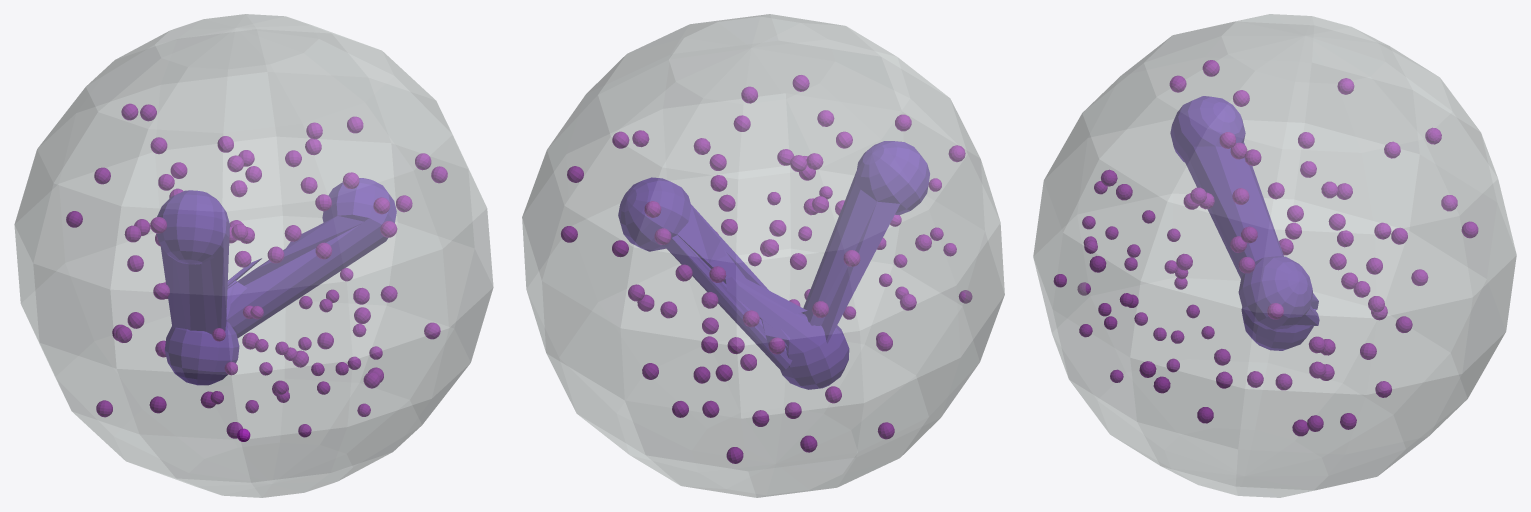
The model's file is model-triangulated.obj.
The picture shows the model from 3 angles, left to right: view 1: azimuth 30°, elevation 25°; view 2: azimuth 150°, elevation 25°; view 3: azimuth 270°, elevation 25°; orthographic projection.
Visible parts, largest first — view 1: group1653038168, group1235840104, group489973218, group1056573630; view 2: group1653038168, group489973218, group1235840104, group1056573630; view 3: group1653038168, group489973218, group1235840104, group1056573630.
Boxes of the visible parts, bbox=[...] form: group1653038168: bbox=[14, 14, 493, 497]; group1235840104: bbox=[226, 178, 396, 337]; group489973218: bbox=[156, 190, 229, 334]; group1056573630: bbox=[165, 258, 261, 385]; group1653038168: bbox=[522, 14, 1004, 497]; group489973218: bbox=[802, 141, 929, 343]; group1235840104: bbox=[618, 177, 807, 371]; group1056573630: bbox=[726, 277, 849, 389]; group1653038168: bbox=[1033, 14, 1516, 497]; group489973218: bbox=[1170, 96, 1283, 278]; group1235840104: bbox=[1238, 256, 1319, 330]; group1056573630: bbox=[1241, 293, 1318, 350].
Bounding box in the file's own units: 1.39 × 1.41 × 1.41.
